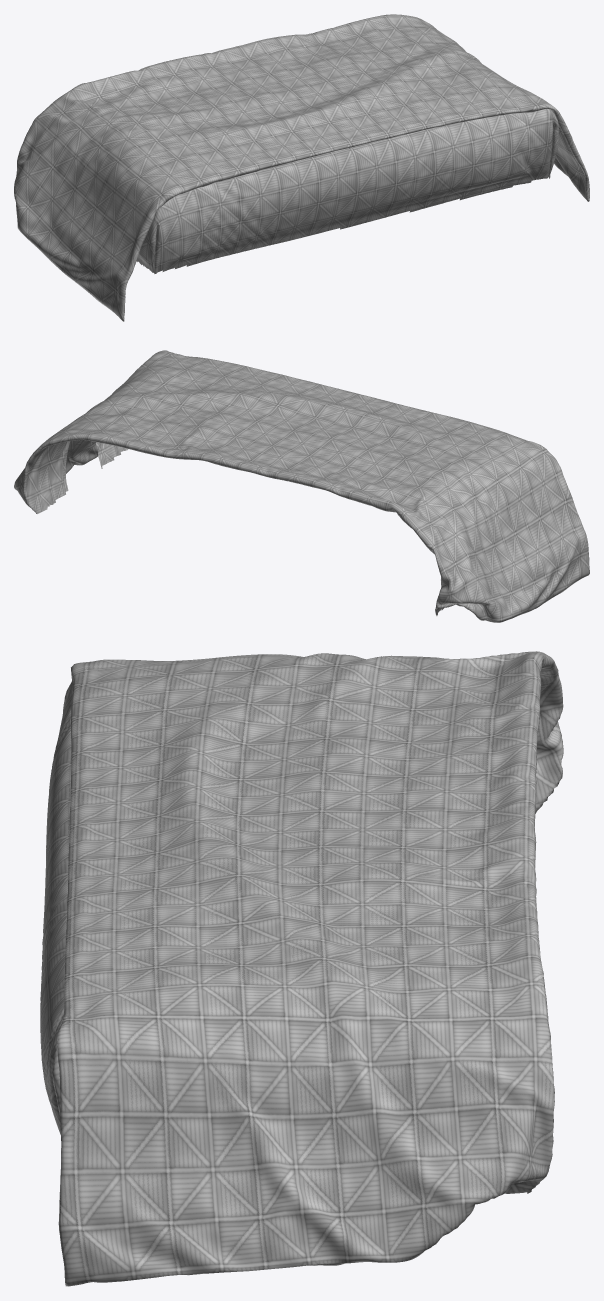
3 views of the same model, one above another, from view 1: azimuth 30°, elevation 25°; view 2: azimuth 150°, elevation 25°; view 3: azimuth 270°, elevation 25° (orthographic). The views are drawn at different scales.
Parts seen in each view (by area): view 1: cover; view 2: cover; view 3: cover.
Boxes of the visible parts, x1,y1,x2,y2 form: cover: [14, 14, 589, 321]; cover: [14, 350, 589, 622]; cover: [40, 651, 563, 1286].
Size of the model in its own units: 1.71 by 0.4683 by 0.801.
1 material, 1 textured.
